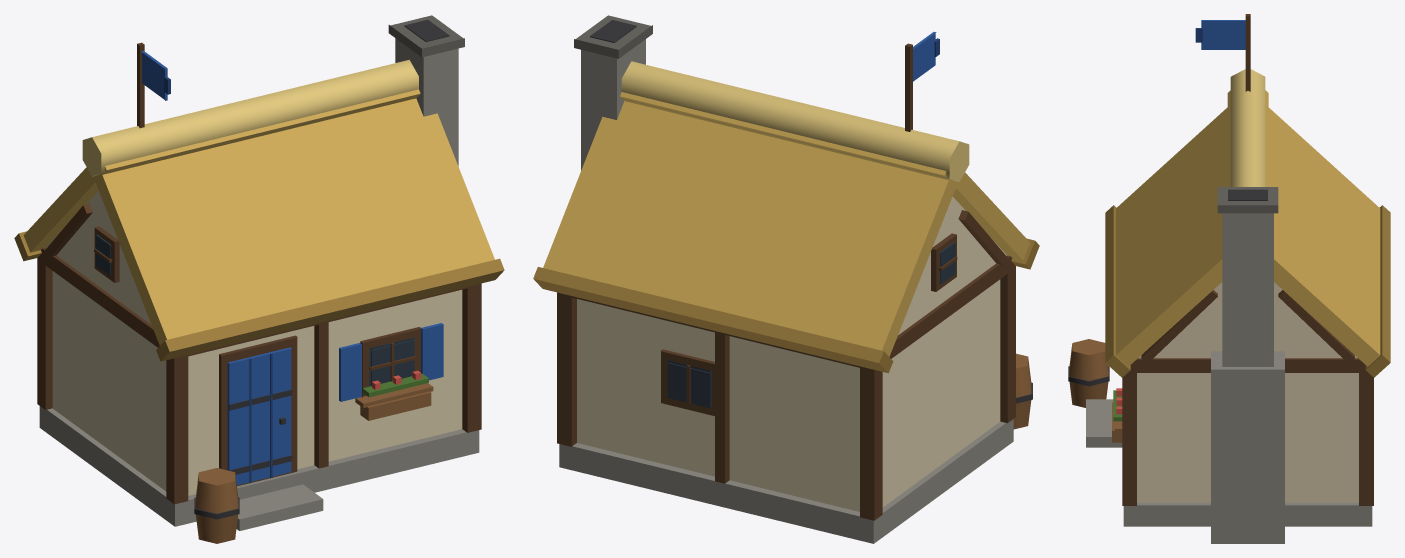
The model's file is peasant-house.glb.
3 renders of one model, left to right at view 1: azimuth 30°, elevation 25°; view 2: azimuth 150°, elevation 25°; view 3: azimuth 270°, elevation 25°, orthographic. The views are drawn at different scales.
Parts seen in each view (by area): view 1: peasant-house; view 2: peasant-house; view 3: peasant-house.
Boxes of the visible parts, left/top/right/bottom form: peasant-house: left=14, top=15, right=504, bottom=543; peasant-house: left=533, top=15, right=1039, bottom=543; peasant-house: left=1068, top=14, right=1390, bottom=543.
Size of the model in its own units: 5.13 by 5.82 by 4.36.
Materials: 1 (1 with a texture image).
